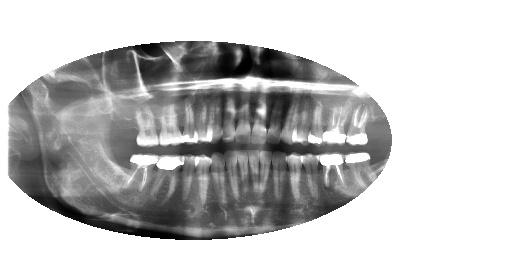Fillings: (153, 151, 185, 202), (156, 107, 182, 148), (135, 106, 160, 147), (346, 152, 376, 184), (196, 97, 214, 146), (182, 99, 200, 146), (306, 101, 323, 147)
Implant: (123, 154, 160, 192), (321, 105, 347, 146), (318, 152, 343, 194), (347, 103, 371, 146)
